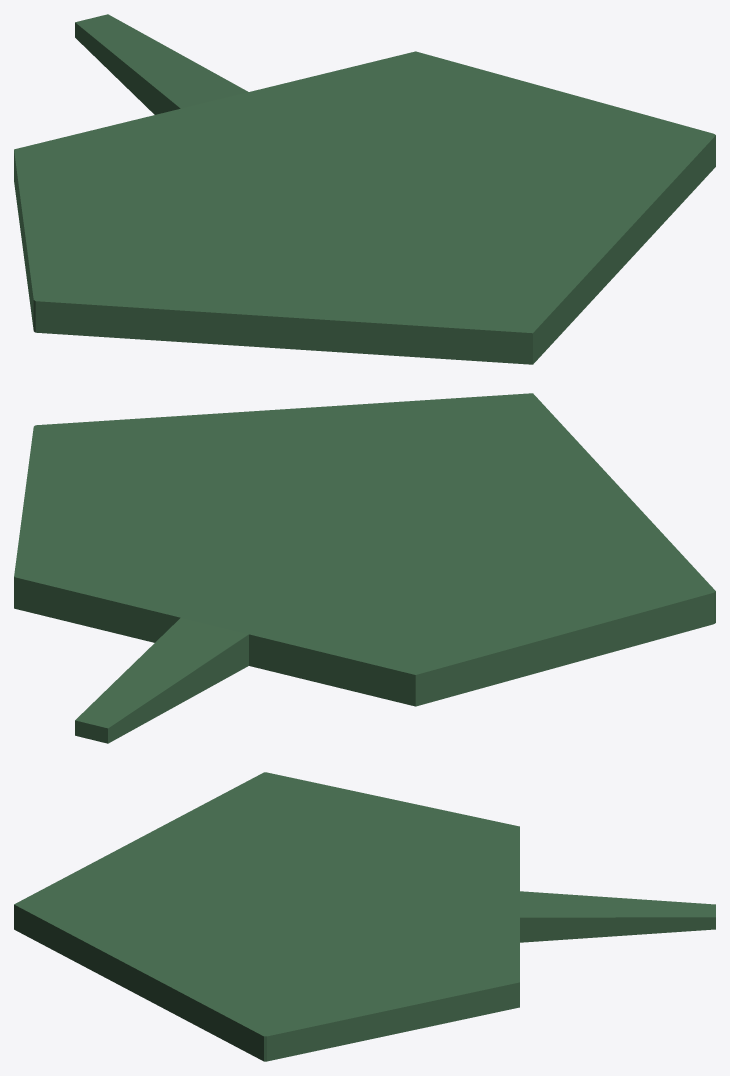
Rendered from leaf.fbx.
3 views of the same model, one above another, from view 1: azimuth 30°, elevation 25°; view 2: azimuth 150°, elevation 25°; view 3: azimuth 270°, elevation 25° (orthographic). The views are drawn at different scales.
Parts seen in each view (by area): view 1: Cube; view 2: Cube; view 3: Cube.
Part boxes in pixels (left/top/right/bottom): Cube: left=14, top=14, right=715, bottom=364; Cube: left=14, top=393, right=715, bottom=743; Cube: left=14, top=772, right=715, bottom=1061.
Bounding box in the file's own units: 150 × 6.64 × 168.
